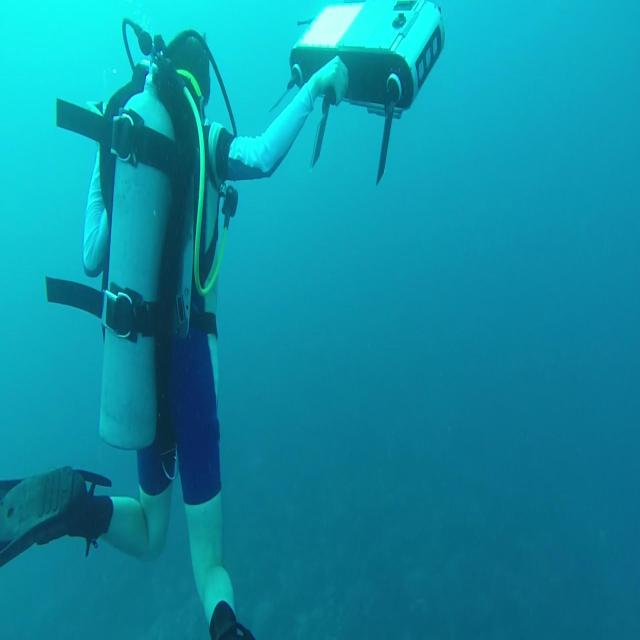human: (30, 21, 350, 638)
